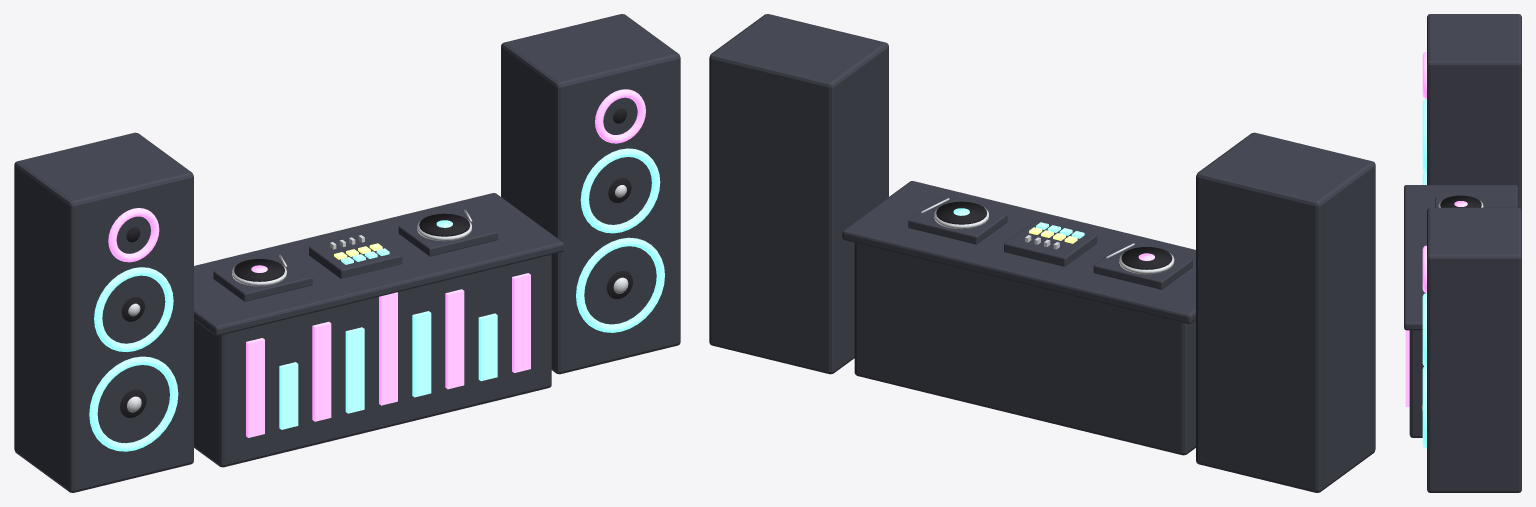
File: dj_booth_rig.glb
3 views of the same model, side by side, from view 1: azimuth 30°, elevation 25°; view 2: azimuth 150°, elevation 25°; view 3: azimuth 270°, elevation 25° (orthographic). The views are drawn at different scales.
Parts seen in each view (by area): view 1: ConsoleMain; view 2: ConsoleMain; view 3: ConsoleMain.
Boxes of the visible parts, x1=… form: ConsoleMain: x1=14, y1=14, x2=680, y2=492; ConsoleMain: x1=709, y1=14, x2=1375, y2=492; ConsoleMain: x1=1404, y1=14, x2=1521, y2=492.
Size of the model in its own units: 5.15 by 2.36 by 1.05.
